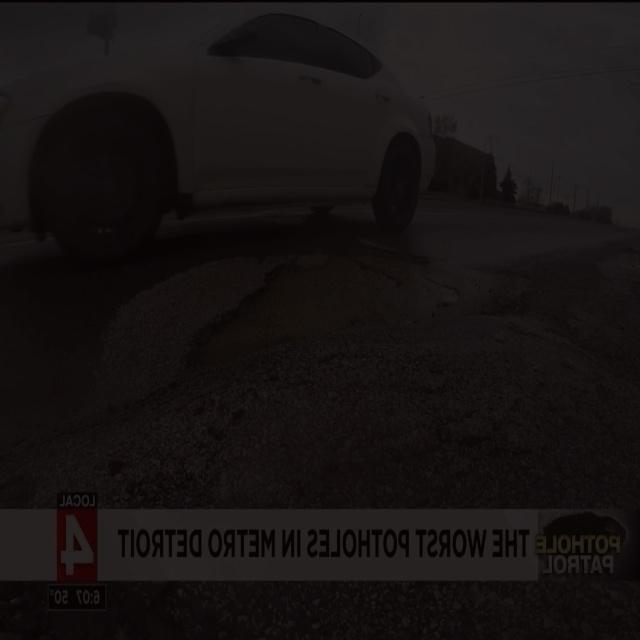Pothole: (179, 237, 462, 371)
